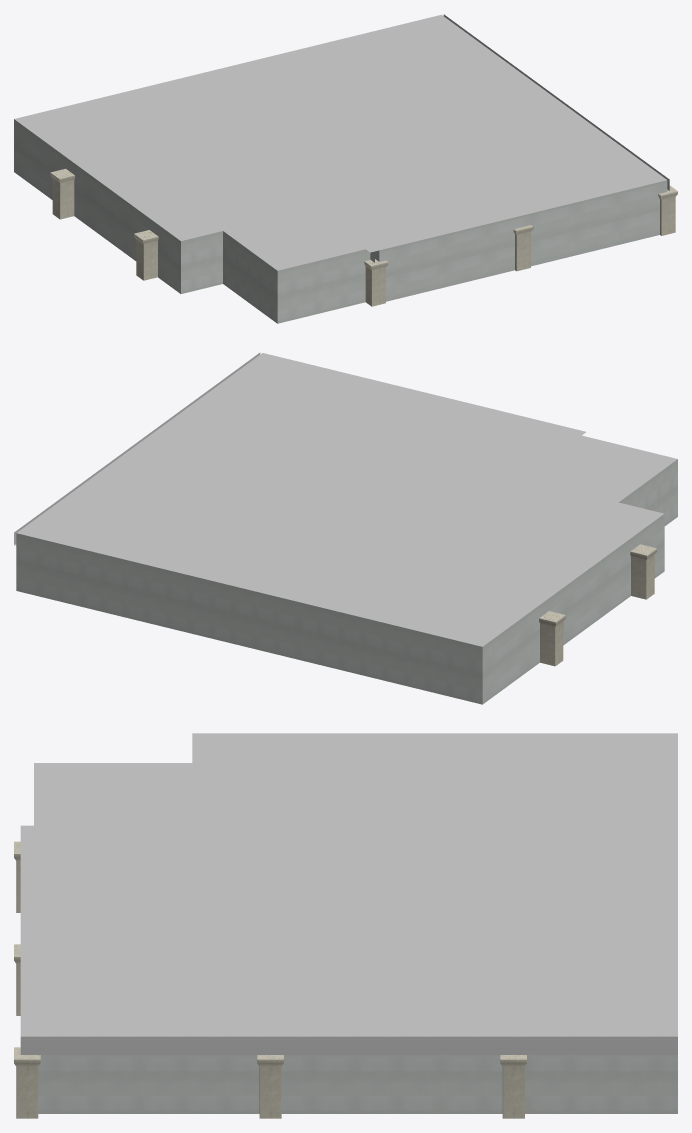
The model's file is WarehouseDT.fbx.
The picture shows the model from 3 angles, top to bottom: view 1: azimuth 30°, elevation 25°; view 2: azimuth 150°, elevation 25°; view 3: azimuth 270°, elevation 25°; orthographic projection. The views are drawn at different scales.
Visible parts, largest first — view 1: WarehouseDTCeiling, WarehouseDTWall3, WarehouseDTWall7, WarehouseDTWall6, WarehouseDTWall1, WarehouseDTWall2, WarehouseDTColumn2, WarehouseDTColumn6, WarehouseDTColumn10, WarehouseDTColumn12, WarehouseDTColumn11, WarehouseDTCeilingBar1; view 2: WarehouseDTCeiling, WarehouseDTWall4, WarehouseDTWall7, WarehouseDTWall1, WarehouseDTColumn2, WarehouseDTColumn6, WarehouseDTCeilingBar1; view 3: WarehouseDTCeiling, WarehouseDTWall5, WarehouseDTCeilingBar1, WarehouseDTColumn12, WarehouseDTColumn5, WarehouseDTColumn9.
Boxes of the visible parts, x1,y1,x2,y2 form: WarehouseDTCeiling: (14, 14, 666, 270); WarehouseDTWall3: (379, 180, 667, 301); WarehouseDTWall7: (14, 119, 180, 293); WarehouseDTWall6: (277, 249, 379, 323); WarehouseDTWall1: (223, 231, 277, 323); WarehouseDTWall2: (181, 231, 222, 293); WarehouseDTColumn2: (50, 168, 74, 219); WarehouseDTColumn6: (134, 230, 158, 280); WarehouseDTColumn10: (364, 259, 388, 306); WarehouseDTColumn12: (658, 185, 677, 235); WarehouseDTColumn11: (513, 225, 533, 271); WarehouseDTCeilingBar1: (443, 14, 669, 190); WarehouseDTCeiling: (16, 353, 677, 646); WarehouseDTWall4: (16, 533, 482, 704); WarehouseDTWall7: (482, 514, 664, 704); WarehouseDTWall1: (619, 459, 677, 525); WarehouseDTColumn2: (539, 611, 565, 666); WarehouseDTColumn6: (630, 544, 656, 599); WarehouseDTCeilingBar1: (14, 352, 260, 545); WarehouseDTCeiling: (20, 733, 677, 1036); WarehouseDTWall5: (20, 1036, 677, 1113); WarehouseDTCeilingBar1: (20, 1038, 677, 1054); WarehouseDTColumn12: (14, 1047, 40, 1118); WarehouseDTColumn5: (500, 1055, 526, 1118); WarehouseDTColumn9: (257, 1055, 283, 1118).
Bounding box in the file's own units: 3432 × 385 × 3005.
